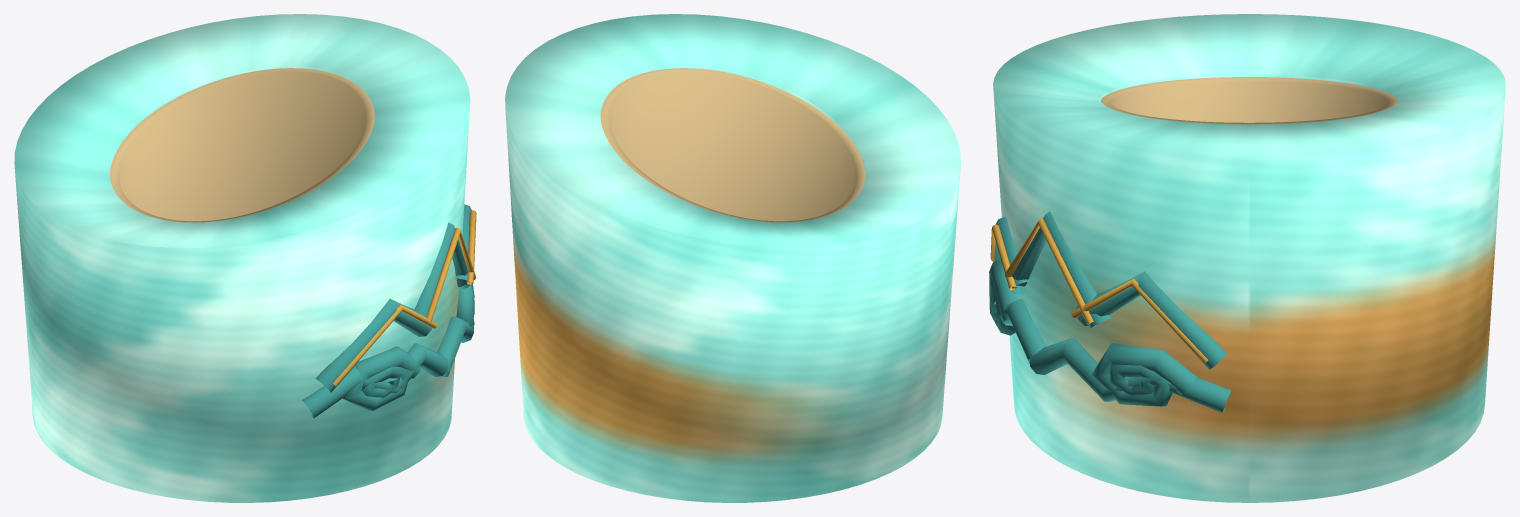
File: banzhi.glb
The picture shows the model from 3 angles, left to right: view 1: azimuth 30°, elevation 25°; view 2: azimuth 150°, elevation 25°; view 3: azimuth 270°, elevation 25°; orthographic projection. The views are drawn at different scales.
Visible parts, largest first — view 1: celadon-sloped-thumb-ring-body, warm-gold-inner-liner, broad-mountain-cloud-relief, restrained-worn-gold-ridges; view 2: celadon-sloped-thumb-ring-body, warm-gold-inner-liner; view 3: celadon-sloped-thumb-ring-body, broad-mountain-cloud-relief, warm-gold-inner-liner, restrained-worn-gold-ridges.
Part boxes in pixels (x1,y1,x2,y2): celadon-sloped-thumb-ring-body: [14, 14, 470, 502]; warm-gold-inner-liner: [110, 68, 374, 222]; broad-mountain-cloud-relief: [302, 204, 474, 418]; restrained-worn-gold-ridges: [333, 210, 476, 386]; celadon-sloped-thumb-ring-body: [505, 14, 960, 502]; warm-gold-inner-liner: [600, 68, 865, 222]; celadon-sloped-thumb-ring-body: [993, 14, 1505, 502]; broad-mountain-cloud-relief: [989, 211, 1231, 412]; warm-gold-inner-liner: [1101, 77, 1397, 124]; restrained-worn-gold-ridges: [990, 218, 1208, 363].
Size of the model in its own units: 0.9955 by 0.7615 by 1.
4 materials, 1 textured.
